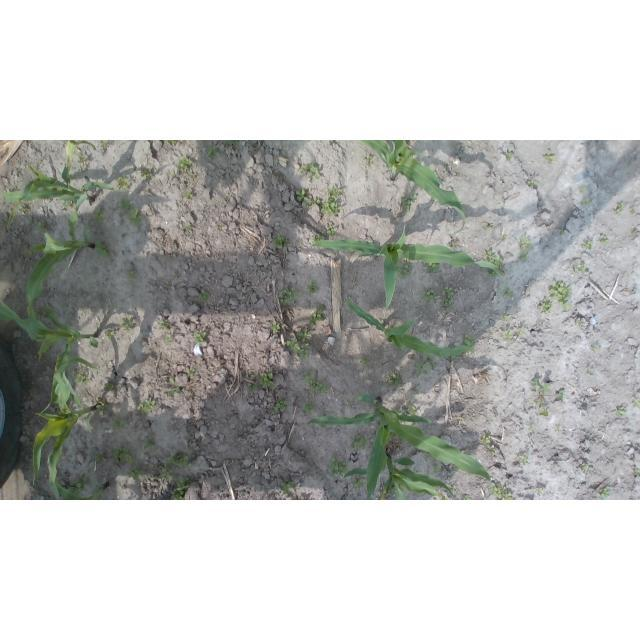Maize: (306, 391, 493, 500), (311, 224, 505, 308), (0, 298, 98, 419), (25, 192, 96, 342), (31, 358, 101, 499), (359, 141, 466, 232), (3, 141, 113, 228), (346, 296, 473, 356), (343, 454, 457, 500), (52, 476, 109, 500)
Weeds: (548, 279, 572, 309), (322, 184, 343, 216), (302, 370, 329, 394), (284, 338, 309, 360), (169, 476, 191, 500), (491, 481, 514, 500), (328, 458, 348, 479), (112, 445, 134, 464), (165, 452, 189, 468), (70, 474, 89, 494), (483, 250, 503, 269), (299, 163, 322, 179), (269, 397, 289, 415), (94, 240, 112, 259), (400, 192, 416, 213), (137, 398, 156, 415), (396, 261, 413, 280), (279, 288, 298, 305), (127, 207, 143, 227), (310, 305, 325, 326), (351, 435, 369, 452), (442, 286, 455, 309), (421, 289, 440, 304), (128, 465, 145, 481), (71, 371, 89, 386), (462, 333, 474, 355), (398, 404, 418, 417), (259, 372, 275, 388), (538, 298, 553, 314), (176, 157, 192, 172), (114, 176, 130, 191), (281, 479, 296, 495), (415, 360, 429, 377), (387, 373, 404, 387), (206, 146, 221, 161), (168, 378, 180, 396), (295, 187, 309, 202), (297, 329, 312, 343), (273, 236, 292, 247), (120, 317, 134, 331), (119, 198, 133, 212), (543, 149, 556, 164), (302, 398, 314, 414), (517, 236, 531, 249), (141, 438, 155, 451), (96, 398, 109, 412), (112, 417, 127, 429), (426, 261, 441, 273), (92, 209, 104, 224), (160, 467, 173, 480), (518, 453, 531, 466), (307, 280, 320, 293), (573, 262, 587, 274), (78, 153, 87, 171), (93, 451, 105, 463), (613, 406, 626, 417), (353, 477, 364, 490), (104, 329, 117, 340), (194, 333, 207, 344), (199, 290, 210, 303), (36, 221, 49, 232), (310, 233, 324, 243), (325, 226, 337, 237), (141, 168, 152, 180), (158, 321, 170, 332), (500, 329, 512, 340), (600, 486, 611, 498), (615, 202, 625, 215), (270, 321, 280, 334), (428, 354, 436, 370), (222, 141, 240, 148), (518, 251, 529, 262), (359, 355, 370, 366), (33, 308, 45, 318), (480, 434, 491, 444), (534, 395, 545, 405), (583, 240, 593, 250), (364, 155, 374, 165), (247, 383, 257, 393), (164, 334, 173, 345), (531, 378, 542, 387), (307, 198, 321, 205), (103, 382, 115, 390), (432, 463, 441, 473), (448, 484, 457, 494), (125, 270, 135, 279), (64, 200, 75, 208), (539, 408, 550, 416), (557, 390, 565, 401), (600, 235, 609, 244), (26, 438, 35, 447), (489, 269, 498, 278), (517, 326, 526, 335), (412, 386, 420, 396), (423, 450, 433, 458), (487, 446, 495, 456), (543, 382, 551, 392), (582, 462, 590, 472), (576, 318, 584, 327), (100, 140, 108, 149), (582, 197, 591, 205), (505, 152, 513, 161), (450, 241, 458, 250), (535, 487, 543, 496), (633, 397, 640, 407), (528, 179, 539, 185), (346, 398, 354, 406), (187, 368, 195, 376), (19, 204, 27, 212), (630, 206, 637, 215), (504, 289, 513, 296), (183, 192, 193, 198), (485, 223, 493, 230), (587, 367, 594, 375), (191, 450, 197, 459), (501, 315, 510, 321), (634, 466, 639, 476), (189, 173, 196, 180), (186, 223, 193, 230), (171, 172, 177, 179), (162, 141, 176, 144), (632, 229, 638, 236), (593, 345, 600, 351), (219, 223, 225, 230), (463, 495, 470, 500), (319, 423, 327, 427), (580, 188, 586, 193), (529, 424, 535, 429), (322, 411, 328, 416), (450, 355, 456, 360), (252, 373, 258, 378), (306, 203, 310, 210), (560, 230, 565, 235), (174, 273, 179, 278), (238, 275, 244, 279), (28, 221, 32, 226), (467, 443, 472, 447), (423, 262, 427, 266)
